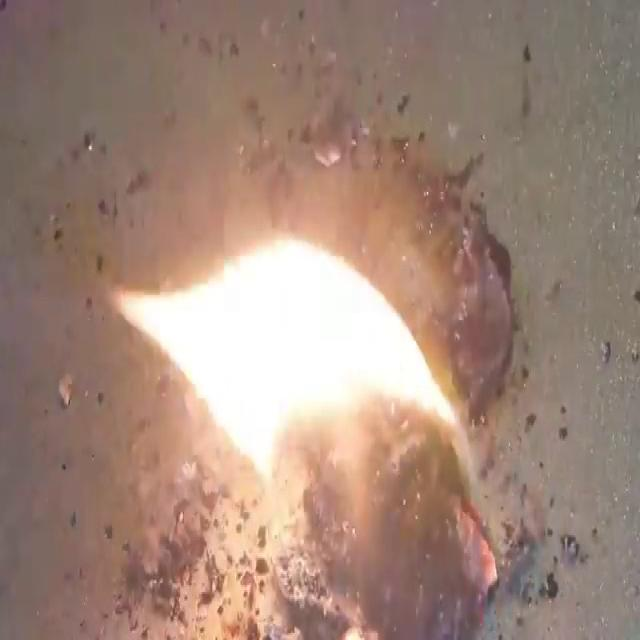Fire: (110, 228, 498, 634)
